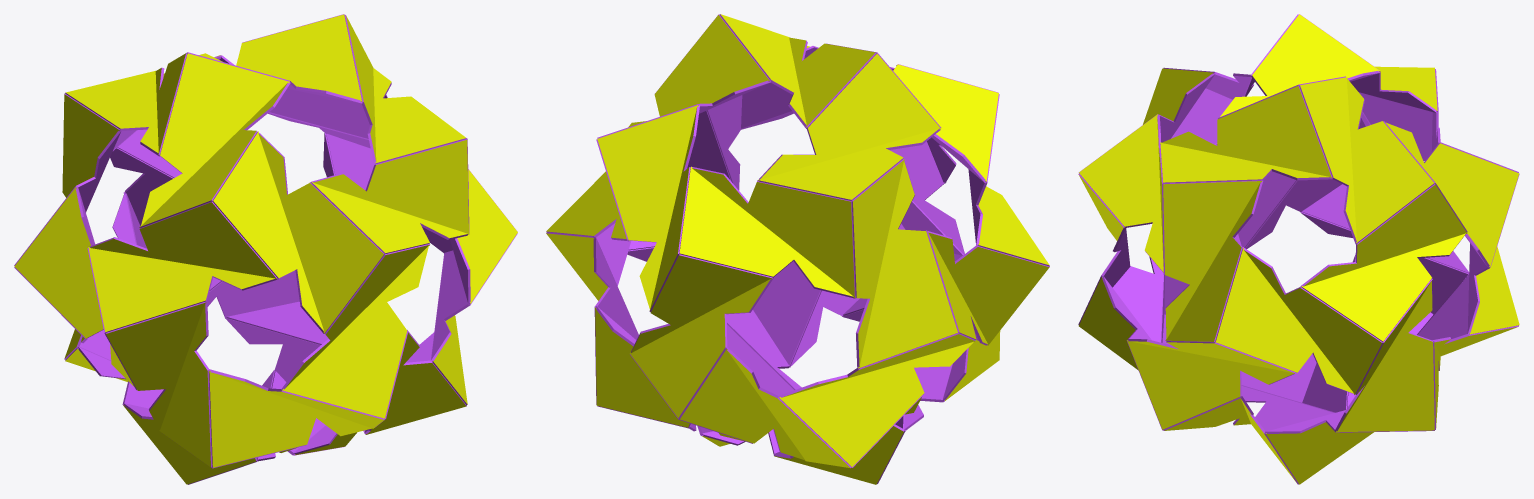
Rendered from Dodecahedron2.glb.
3 renders of one model, left to right at view 1: azimuth 30°, elevation 25°; view 2: azimuth 150°, elevation 25°; view 3: azimuth 270°, elevation 25°, orthographic. The views are drawn at different scales.
Parts seen in each view (by area): view 1: root; view 2: root; view 3: root.
Boxes of the visible parts, x1,y1,x2,y2 form: root: [14, 14, 517, 484]; root: [546, 14, 1049, 484]; root: [1078, 14, 1519, 484].
Size of the model in its own units: 2.63 by 2.63 by 2.63.
